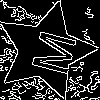M: (21, 26, 78, 78)
